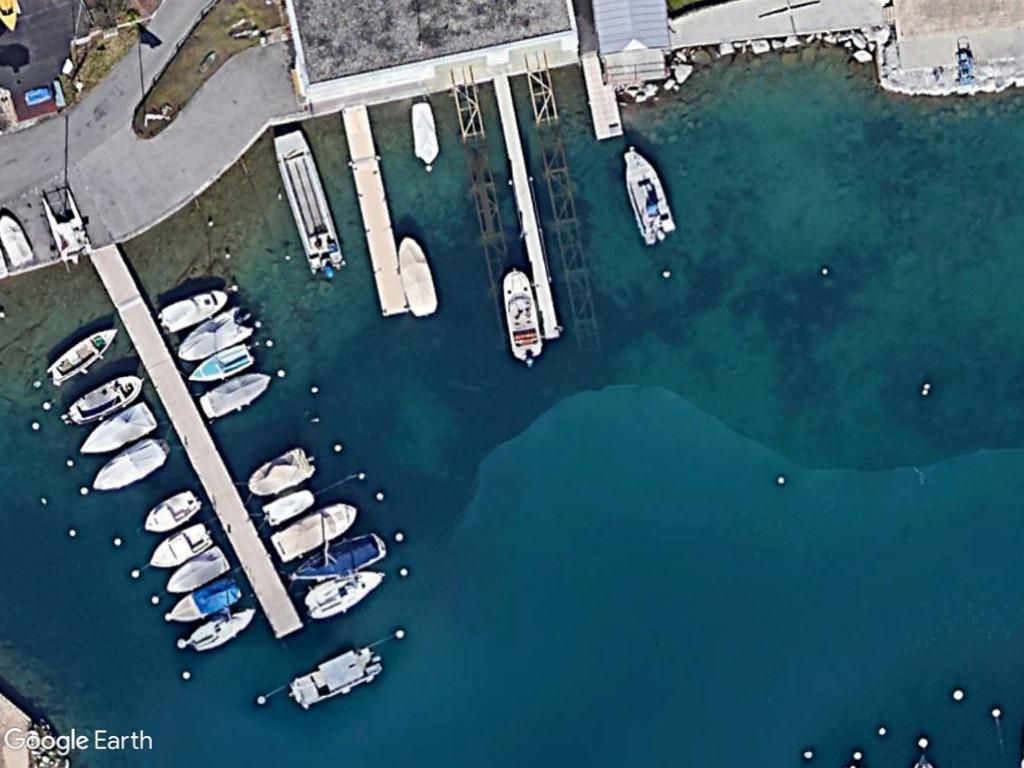boat: (621, 144, 680, 249), (269, 499, 359, 564), (284, 531, 388, 587), (75, 398, 160, 462), (174, 303, 254, 367), (300, 564, 389, 621), (91, 433, 171, 495), (46, 323, 118, 387), (66, 370, 144, 429), (499, 263, 545, 363), (195, 367, 275, 422), (243, 442, 318, 500), (395, 229, 442, 321), (184, 602, 258, 656), (160, 542, 233, 596), (165, 576, 245, 625), (156, 284, 231, 335), (144, 517, 214, 570), (140, 488, 206, 535), (189, 339, 253, 386), (260, 483, 317, 526), (408, 98, 442, 166)
